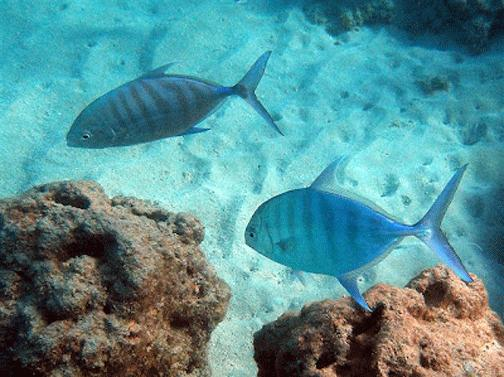Carangidae -Jacks-: (231, 152, 479, 312), (61, 42, 293, 155)
